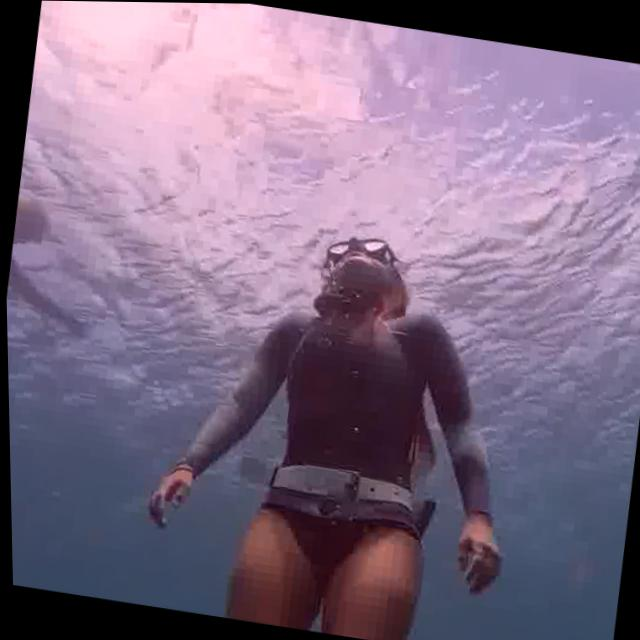human: (119, 174, 553, 640), (2, 134, 121, 496)
